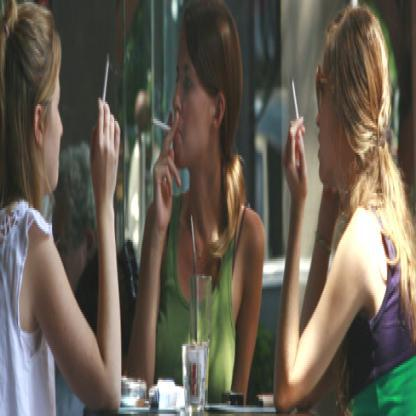cigarette: (290, 76, 300, 126), (102, 50, 110, 108), (150, 115, 171, 134)
person: (271, 2, 415, 414), (138, 2, 264, 399), (0, 0, 120, 415)
